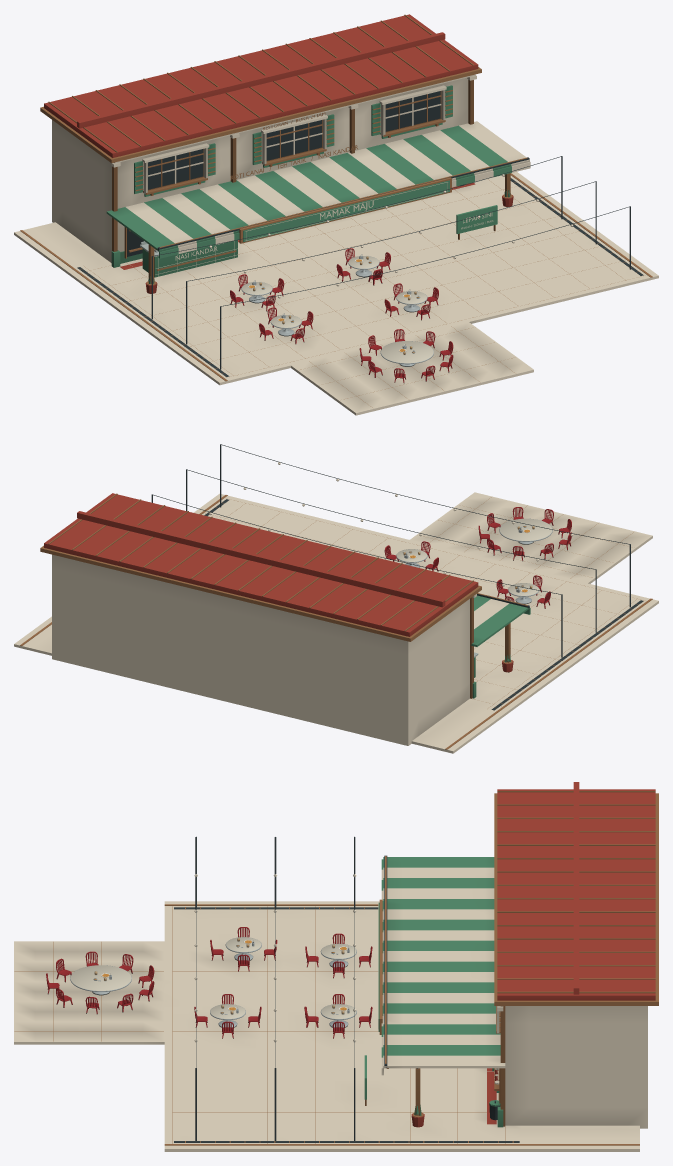
The model's file is LM_ENV_MamakMaju_Realism.glb.
3 renders of one model, top to bottom at view 1: azimuth 30°, elevation 25°; view 2: azimuth 150°, elevation 25°; view 3: azimuth 270°, elevation 25°, orthographic. The views are drawn at different scales.
Parts seen in each view (by area): view 1: LM_ENV_MamakMaju, LM_MR_deep_red_moulded_polypropylene, LM_ENV_MamakMaju_Festoon, LM_MR_ivory_speckled_laminate, LM_MR_brushed_stainless; view 2: LM_ENV_MamakMaju, LM_ENV_MamakMaju_Festoon, LM_MR_deep_red_moulded_polypropylene, LM_MR_ivory_speckled_laminate, LM_MR_brushed_stainless; view 3: LM_ENV_MamakMaju, LM_MR_deep_red_moulded_polypropylene, LM_MR_ivory_speckled_laminate, LM_ENV_MamakMaju_Festoon, LM_MR_brushed_stainless.
Part boxes in pixels (x1,y1,x2,y2): LM_ENV_MamakMaju: (14,14,658,415); LM_MR_deep_red_moulded_polypropylene: (230,248,453,382); LM_ENV_MamakMaju_Festoon: (151,156,630,369); LM_MR_ivory_speckled_laminate: (242,256,433,363); LM_MR_brushed_stainless: (241,256,433,366); LM_ENV_MamakMaju: (14,492,658,753); LM_ENV_MamakMaju_Festoon: (151,444,630,657); LM_MR_deep_red_moulded_polypropylene: (384,507,571,608); LM_MR_ivory_speckled_laminate: (396,518,552,595); LM_MR_brushed_stainless: (396,518,552,603); LM_ENV_MamakMaju: (14,782,658,1151); LM_MR_deep_red_moulded_polypropylene: (46,927,372,1038); LM_MR_ivory_speckled_laminate: (70,937,356,1018); LM_ENV_MamakMaju_Festoon: (194,836,356,1140); LM_MR_brushed_stainless: (70,937,356,1027).
Size of the model in its own units: 37 by 9.95 by 40.7.
16 materials, 2 textured.
